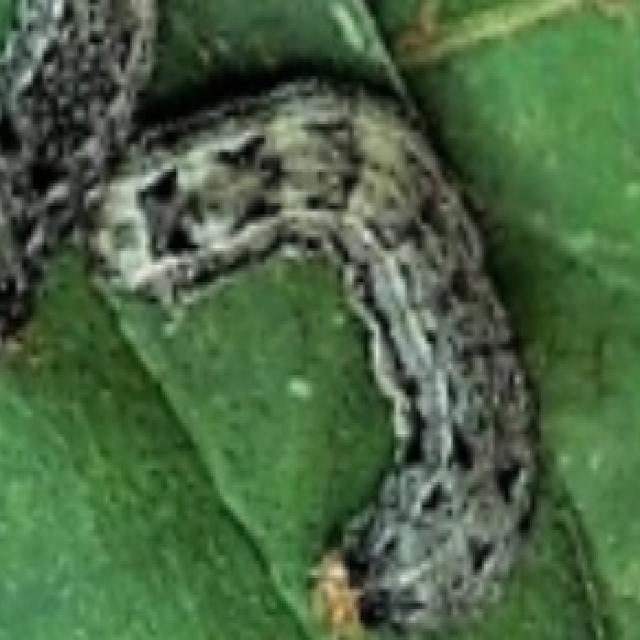armyworm: (95, 79, 547, 640), (0, 0, 163, 341)
